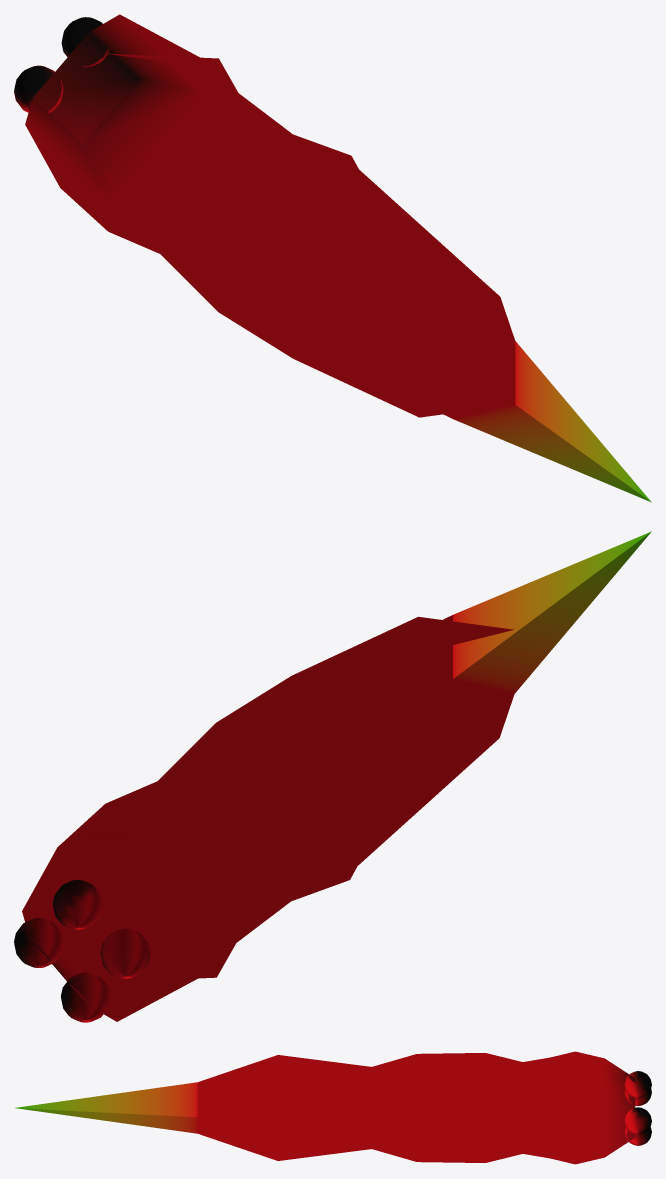
Rendered from engine.glb.
3 renders of one model, top to bottom at view 1: azimuth 30°, elevation 25°; view 2: azimuth 150°, elevation 25°; view 3: azimuth 270°, elevation 25°, orthographic. The views are drawn at different scales.
Visible parts, largest first — view 1: Engine; view 2: Engine; view 3: Engine.
Boxes of the visible parts, left/top/right/bottom form: Engine: left=14, top=14, right=651, bottom=502; Engine: left=14, top=531, right=651, bottom=1022; Engine: left=15, top=1051, right=651, bottom=1164.
Size of the model in its own units: 0.5427 by 0.5427 by 3.07.
